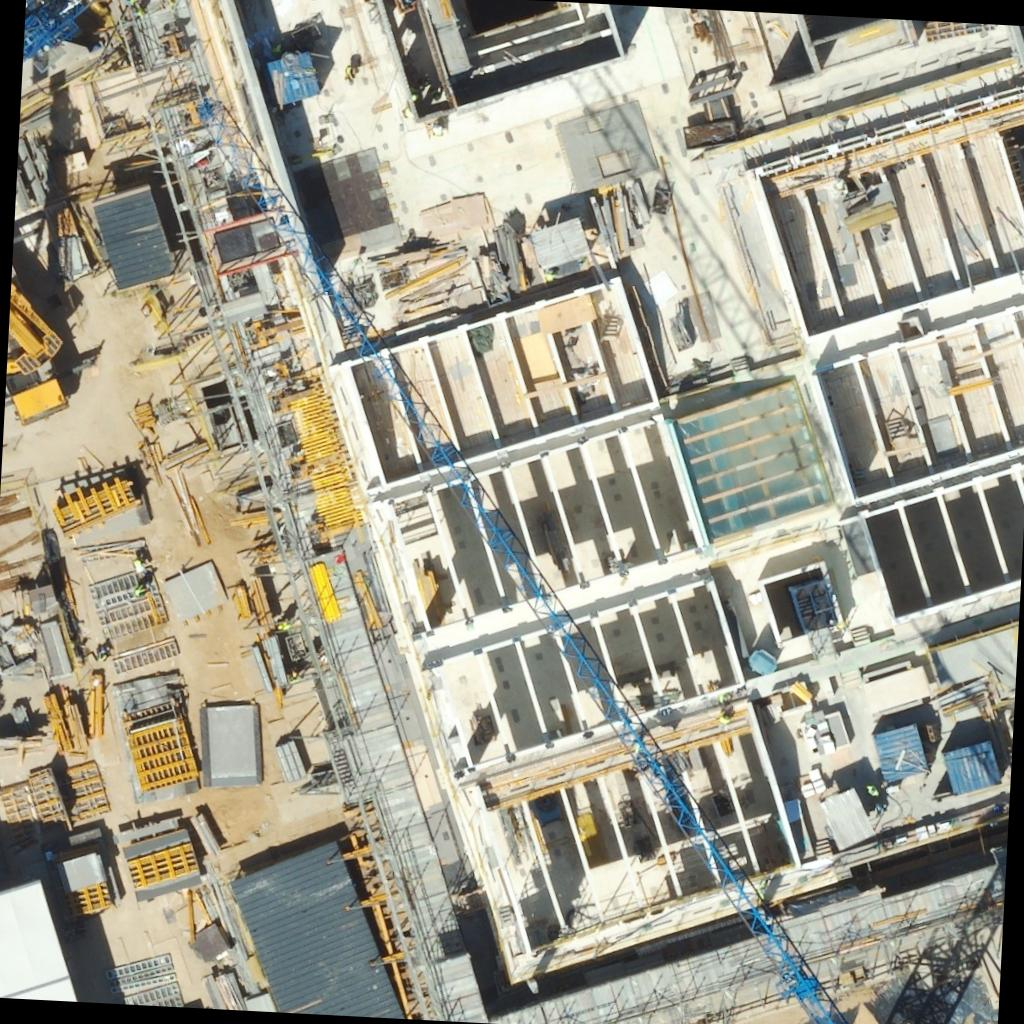kontener: (872, 722, 930, 784), (940, 738, 1003, 795), (820, 788, 876, 852)
zuraw_wiezowy: (152, 98, 900, 1024), (23, 0, 128, 67)
